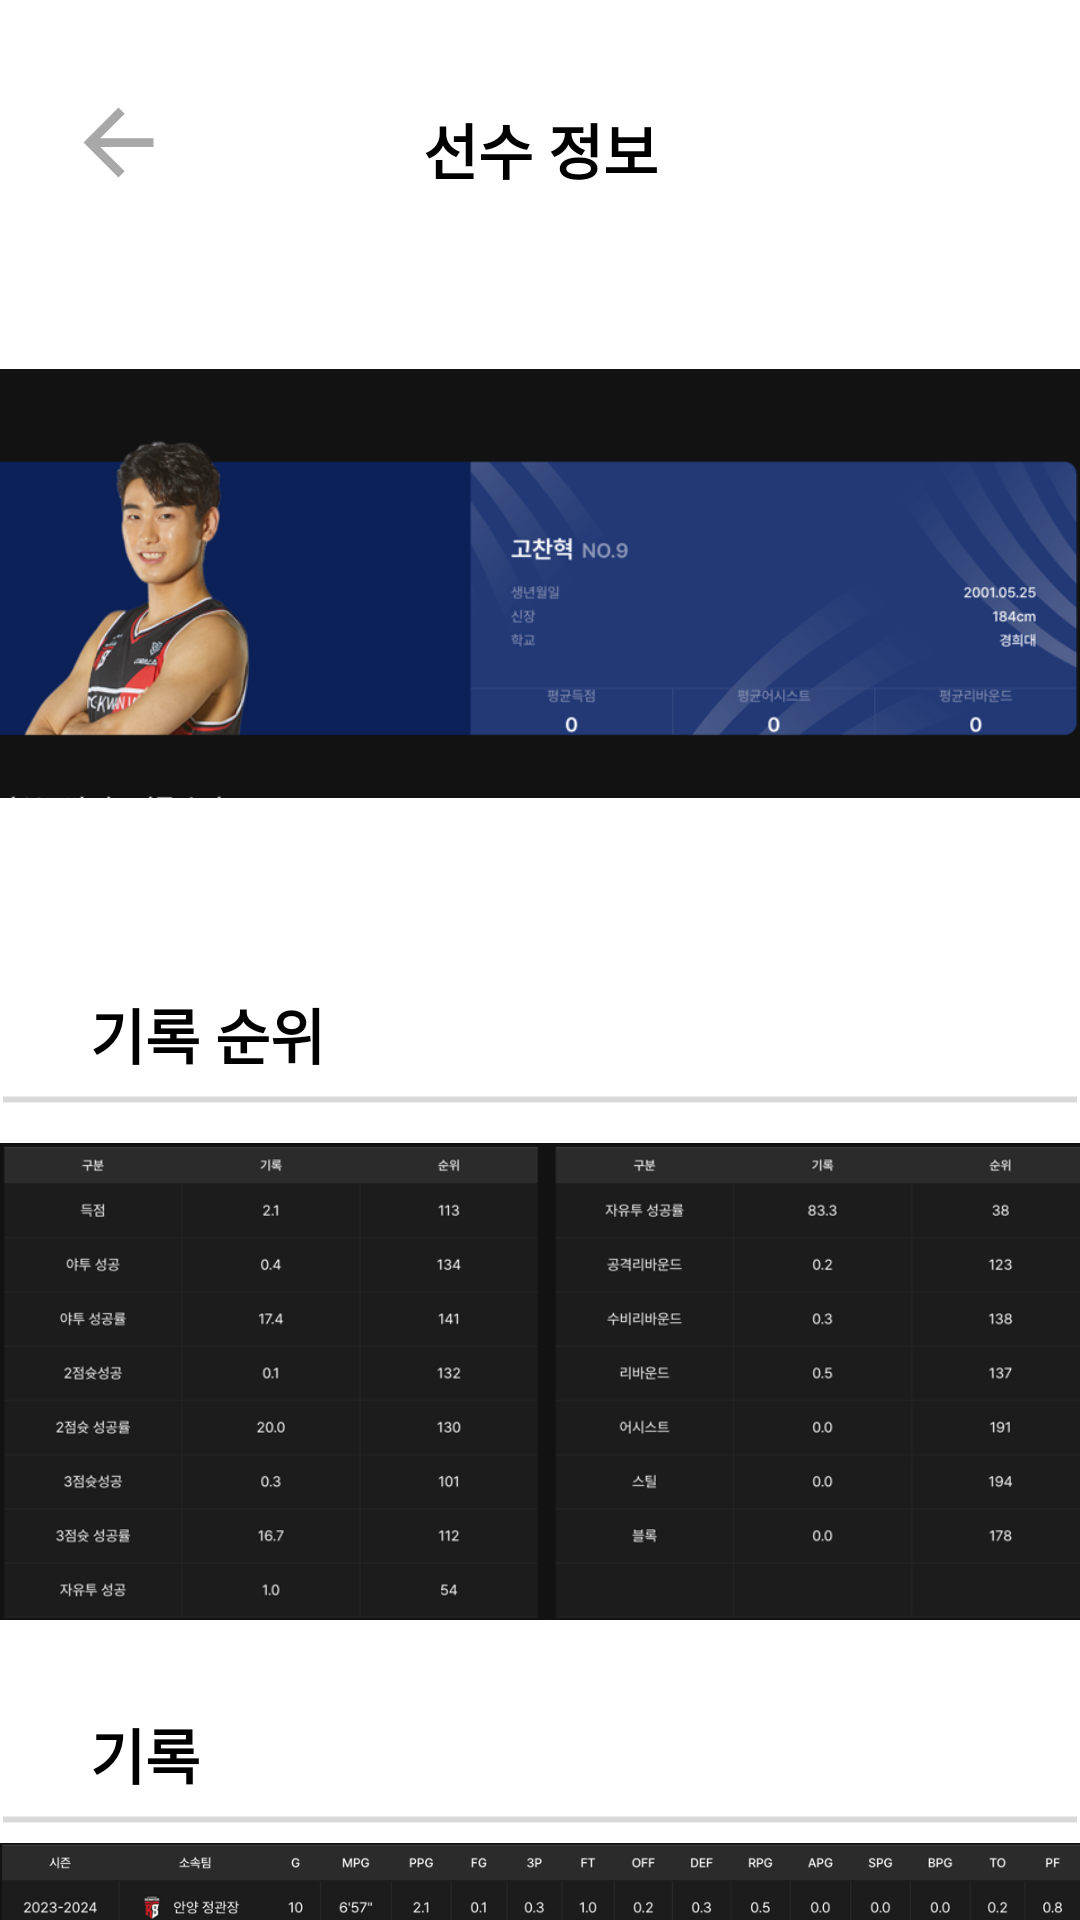

Point at icon controls on the screen. Image size 1080×1920, points as point (x, y).
arrow back: point (119, 142)
